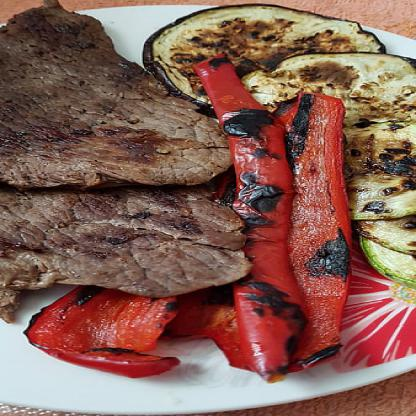Carne: (0, 5, 231, 193), (0, 190, 255, 292)
